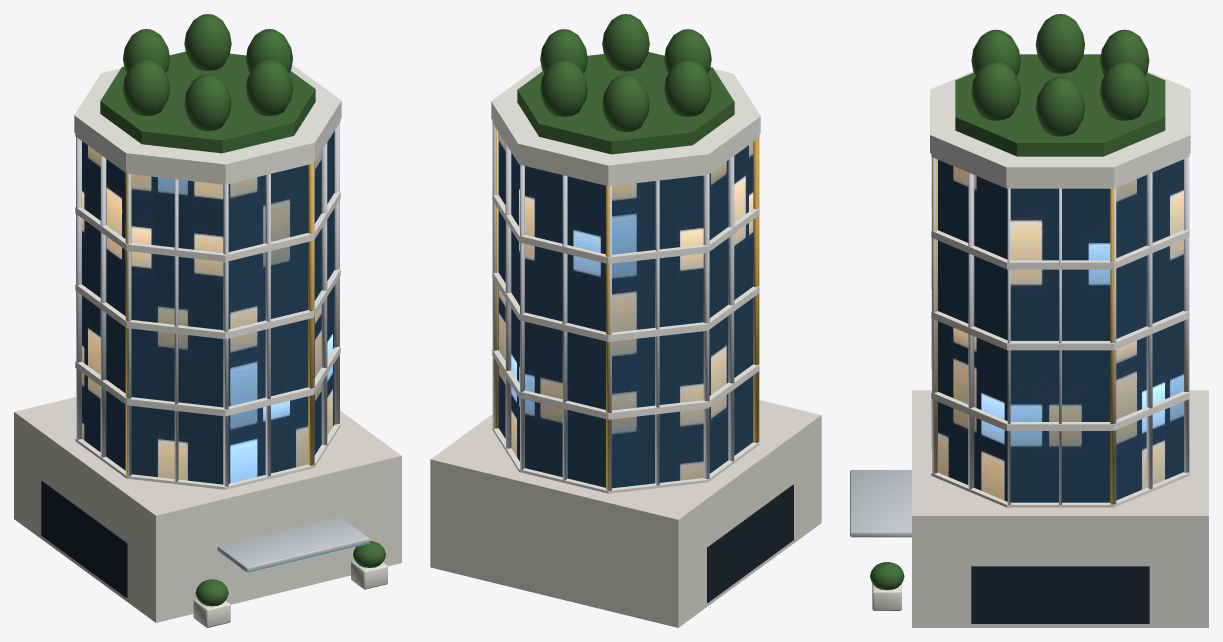
Rendered from nexus-civic-b.glb.
The picture shows the model from 3 angles, left to right: view 1: azimuth 30°, elevation 25°; view 2: azimuth 150°, elevation 25°; view 3: azimuth 270°, elevation 25°; orthographic projection. The views are drawn at different scales.
Visible parts, largest first — view 1: Building; view 2: Building; view 3: Building.
Boxes of the visible parts, left/top/right/bottom form: Building: left=14, top=14, right=401, bottom=627; Building: left=430, top=14, right=821, bottom=627; Building: left=850, top=14, right=1208, bottom=627.
Bounding box in the file's own units: 12.1 × 23.1 × 14.5.
